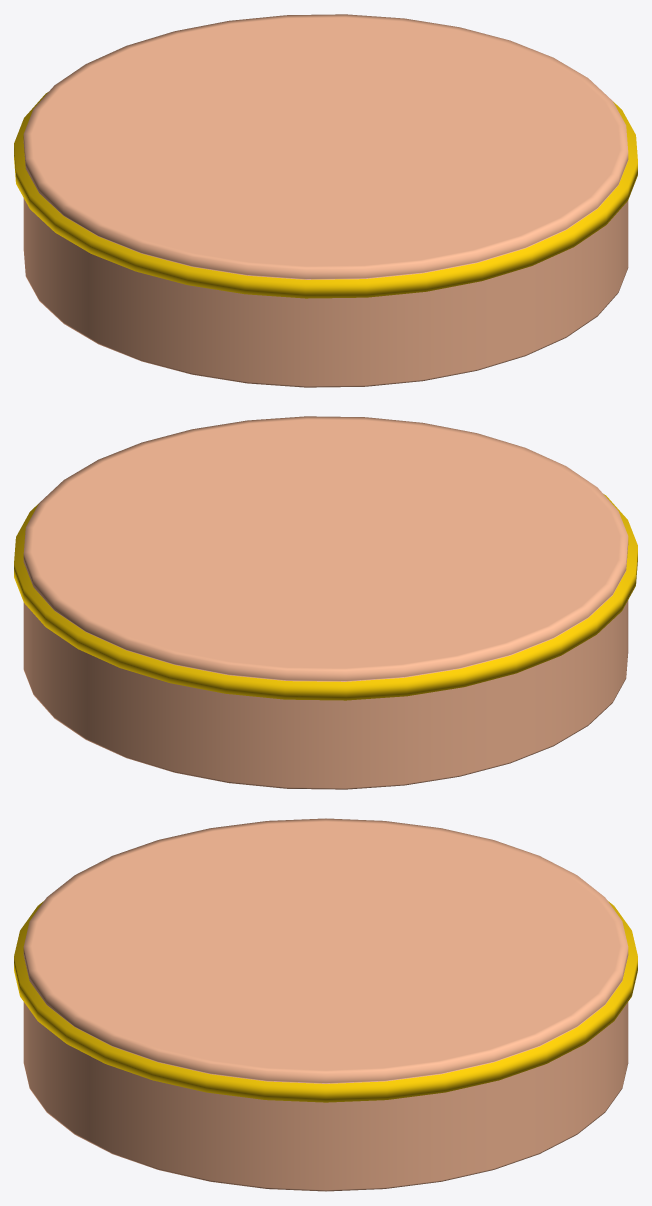
The model's file is fond2.glb.
3 views of the same model, one above another, from view 1: azimuth 30°, elevation 25°; view 2: azimuth 150°, elevation 25°; view 3: azimuth 270°, elevation 25° (orthographic).
Visible parts, largest first — view 1: Cylinder; view 2: Cylinder; view 3: Cylinder.
Part boxes in pixels (x1,y1,x2,y2): Cylinder: (14,14,637,387); Cylinder: (14,416,637,789); Cylinder: (14,818,637,1191).
Size of the model in its own units: 6.25 by 1.3 by 6.25.
